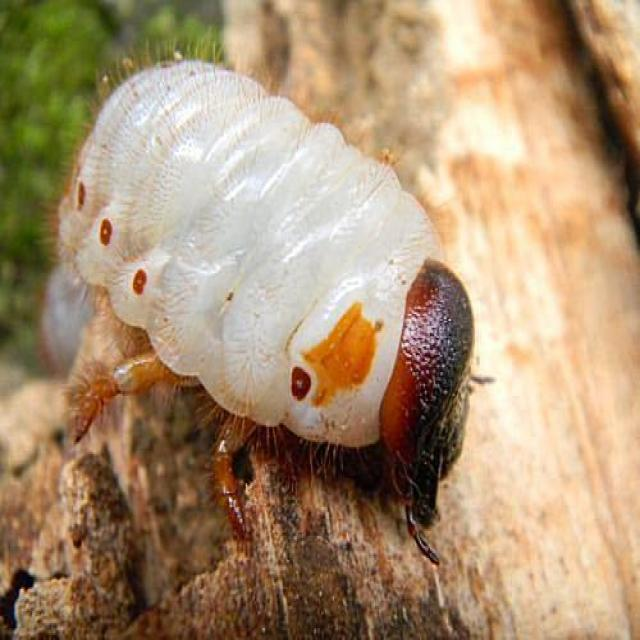Grub-Adult-: (46, 45, 474, 536)
